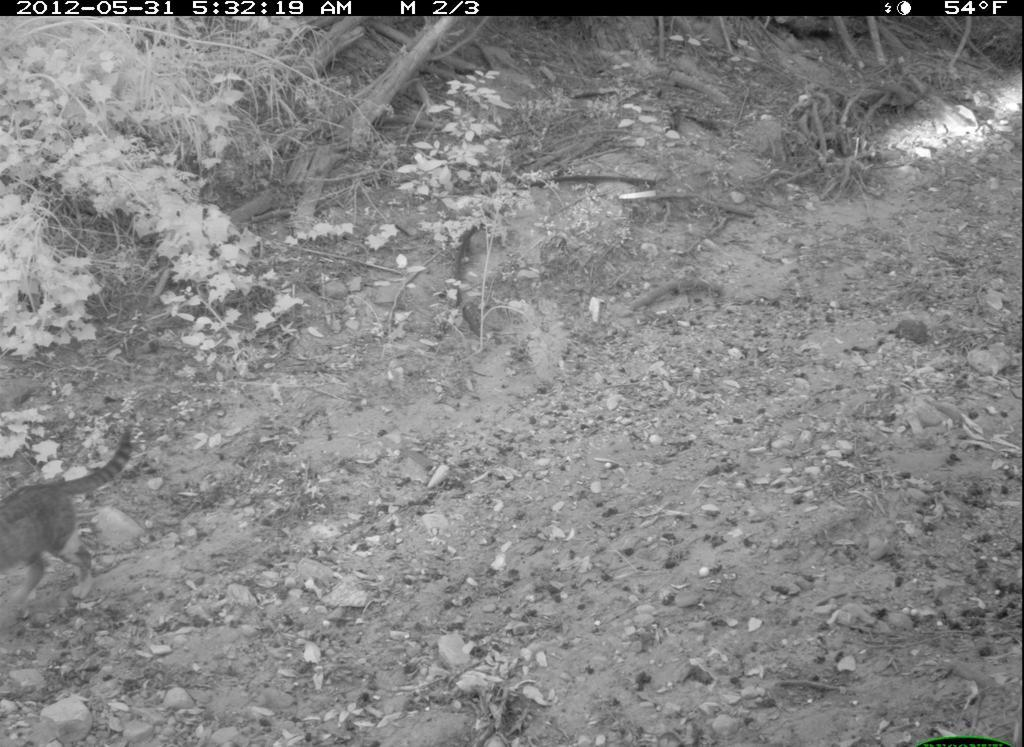cat: (1, 417, 141, 614)
